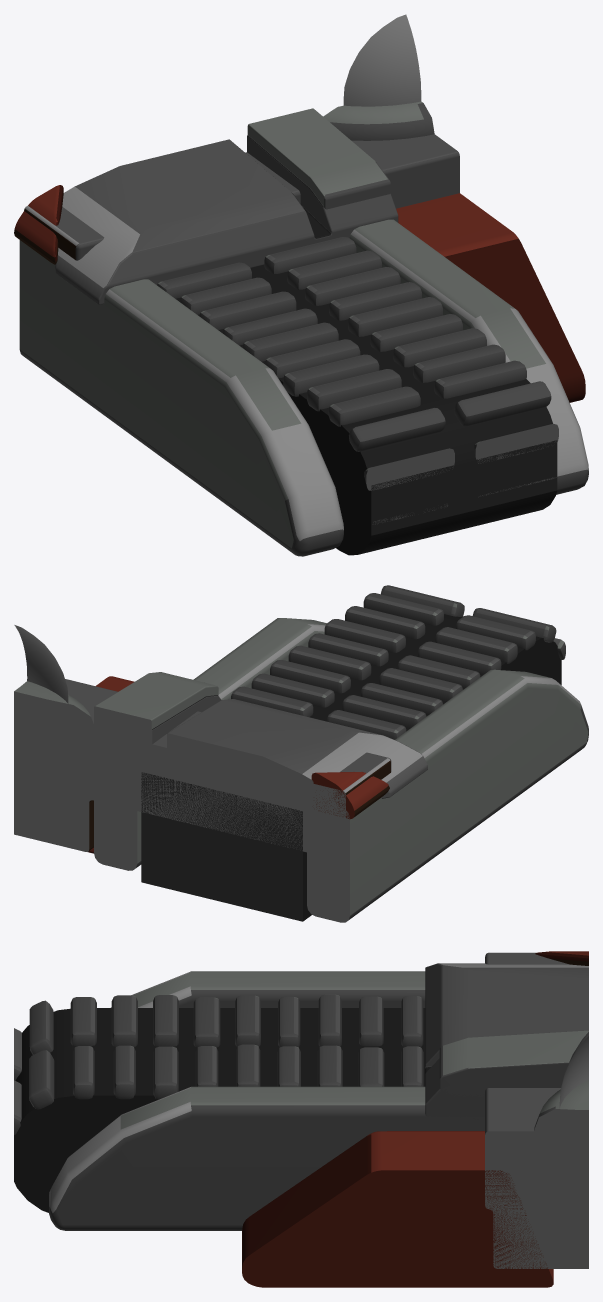
File: track_carrier_bl.glb
3 views of the same model, one above another, from view 1: azimuth 30°, elevation 25°; view 2: azimuth 150°, elevation 25°; view 3: azimuth 270°, elevation 25° (orthographic). The views are drawn at different scales.
Parts seen in each view (by area): view 1: track_carrier_bl; view 2: track_carrier_bl; view 3: track_carrier_bl.
Boxes of the visible parts, bbox=[...] form: track_carrier_bl: bbox=[14, 14, 588, 556]; track_carrier_bl: bbox=[14, 585, 588, 922]; track_carrier_bl: bbox=[14, 951, 588, 1287].
Bounding box in the file's own units: 21.3 × 13.53 × 28.
